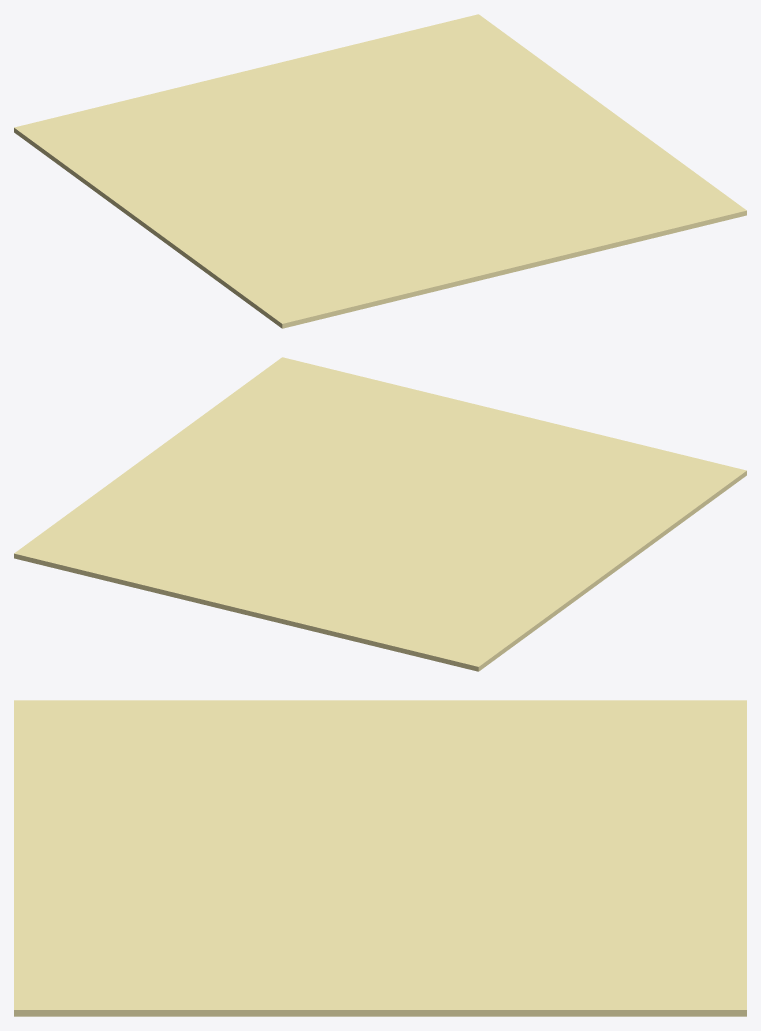
File: road_asphalt_patched.glb
3 renders of one model, top to bottom at view 1: azimuth 30°, elevation 25°; view 2: azimuth 150°, elevation 25°; view 3: azimuth 270°, elevation 25°, orthographic. The views are drawn at different scales.
Visible parts, largest first — view 1: base; view 2: base; view 3: base.
Boxes of the visible parts, x1,y1,x2,y2 form: base: [14, 14, 746, 328]; base: [14, 357, 746, 671]; base: [14, 700, 746, 1016].
Bounding box in the file's own units: 4 × 0.04 × 4.
